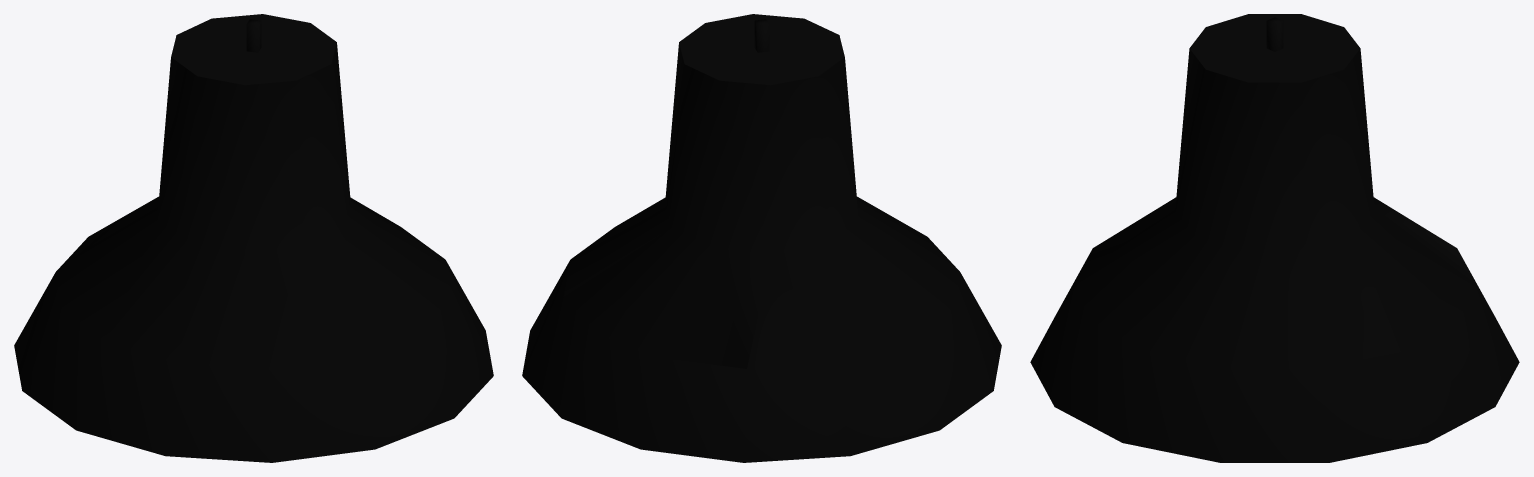
The model's file is bombilla.obj.
The picture shows the model from 3 angles, left to right: view 1: azimuth 30°, elevation 25°; view 2: azimuth 150°, elevation 25°; view 3: azimuth 270°, elevation 25°; orthographic projection.
Visible parts, largest first — view 1: office_lamp_A; view 2: office_lamp_A; view 3: office_lamp_A.
Boxes of the visible parts, x1,y1,x2,y2 form: office_lamp_A: [14, 14, 493, 462]; office_lamp_A: [522, 14, 1001, 462]; office_lamp_A: [1030, 14, 1519, 462].
Size of the model in its own units: 0.9528 by 0.7523 by 0.9774.
Materials: 2 (2 with a texture image).
